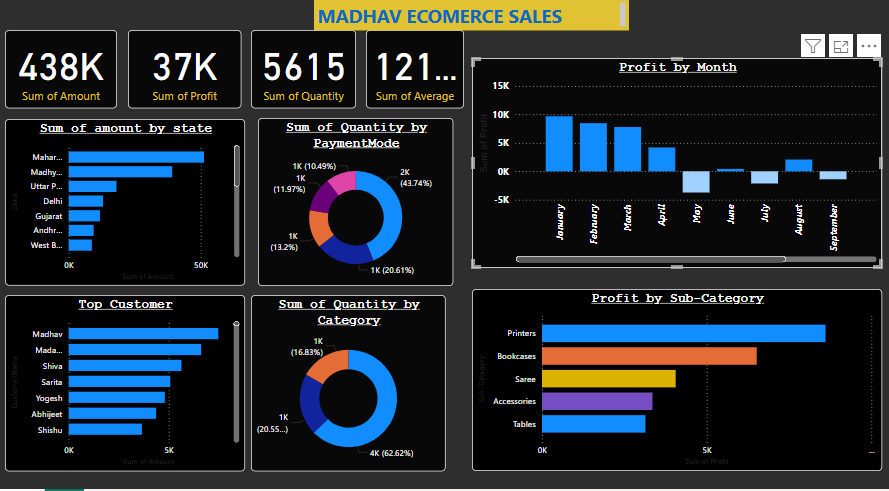

Layout of this report page (visuals, bound fields, positions):
{"tool":"powerbi","page":{"name":"Page 1","canvas":[1280,720],"ordinal":0},"visuals":[{"type":"columnChart","title":"Profit by Month","fields":{"Category":["Orders.Order Date.Variation.Date Hierarchy.Month"],"Y":["Details.Profit"]},"box":[676.8,85,586.1,299.5],"z":0},{"type":"barChart","title":"Profit by Sub-Category","fields":{"Category":["Details.Sub-Category"],"Y":["Details.Profit"]},"box":[677.1,414.3,585.7,260],"z":1000},{"type":"donutChart","fields":{"Category":["Details.Category"],"Y":["Details.Quantity"]},"box":[361.7,423.3,278.3,251.7],"z":2000},{"type":"donutChart","fields":{"Category":["Details.PaymentMode"],"Y":["Details.Quantity"]},"box":[371.5,169.9,279.4,240.5],"z":3000},{"type":"card","fields":{"Values":["Details.Amount"]},"box":[10,45,160,111.7],"z":4000},{"type":"card","fields":{"Values":["Details.Profit"]},"box":[185,45,161.7,111.7],"z":5000},{"type":"card","fields":{"Values":["Details.Quantity"]},"box":[361.7,45,150,111.7],"z":6000},{"type":"card","fields":{"Values":["Details.Average"]},"box":[525,45,140,111.7],"z":7000},{"type":"barChart","title":"Sum of amount by state","fields":{"Category":["Orders.State"],"Y":["Details.Amount"]},"box":[10,171.7,343.3,238.3],"z":8000},{"type":"barChart","title":"Top Customer","fields":{"Category":["Orders.CustomerName"],"Y":["Details.Amount"]},"box":[10.1,423.4,342.7,252],"z":9000},{"type":"textbox","box":[451.7,0,450,45],"z":10000}]}

Visuals, with their boxes in screenshot pixels (x1, y1, x2, y2), scaled from the page's 1280x720 canvas onto the 889x491 screenshot:
"Profit by Month" columnChart: (470,58,877,262)
"Profit by Sub-Category" barChart: (470,283,877,460)
donutChart - Details.Category x Details.Quantity: (251,289,444,460)
donutChart - Details.PaymentMode x Details.Quantity: (258,116,452,280)
card - Details.Amount: (7,31,118,107)
card - Details.Profit: (128,31,241,107)
card - Details.Quantity: (251,31,355,107)
card - Details.Average: (365,31,462,107)
"Sum of amount by state" barChart: (7,117,245,280)
"Top Customer" barChart: (7,289,245,461)
textbox: (314,0,626,31)
